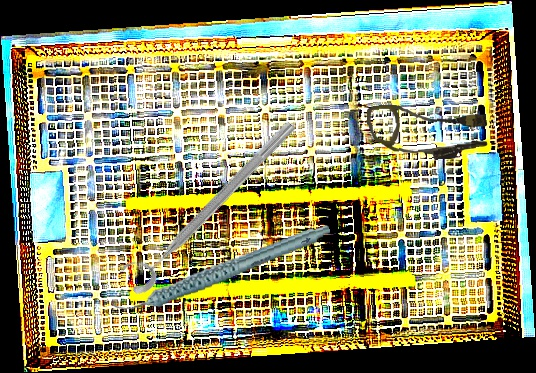Cannula: (366, 99, 489, 164)
Fixation Ring: (114, 107, 301, 299)
Handpiece: (105, 222, 338, 315)
